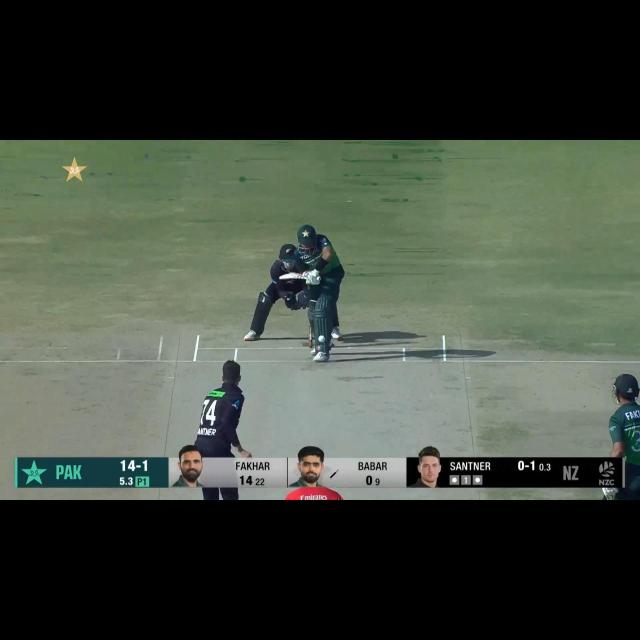bat: (279, 272, 308, 280)
toe: (279, 274, 288, 280)
